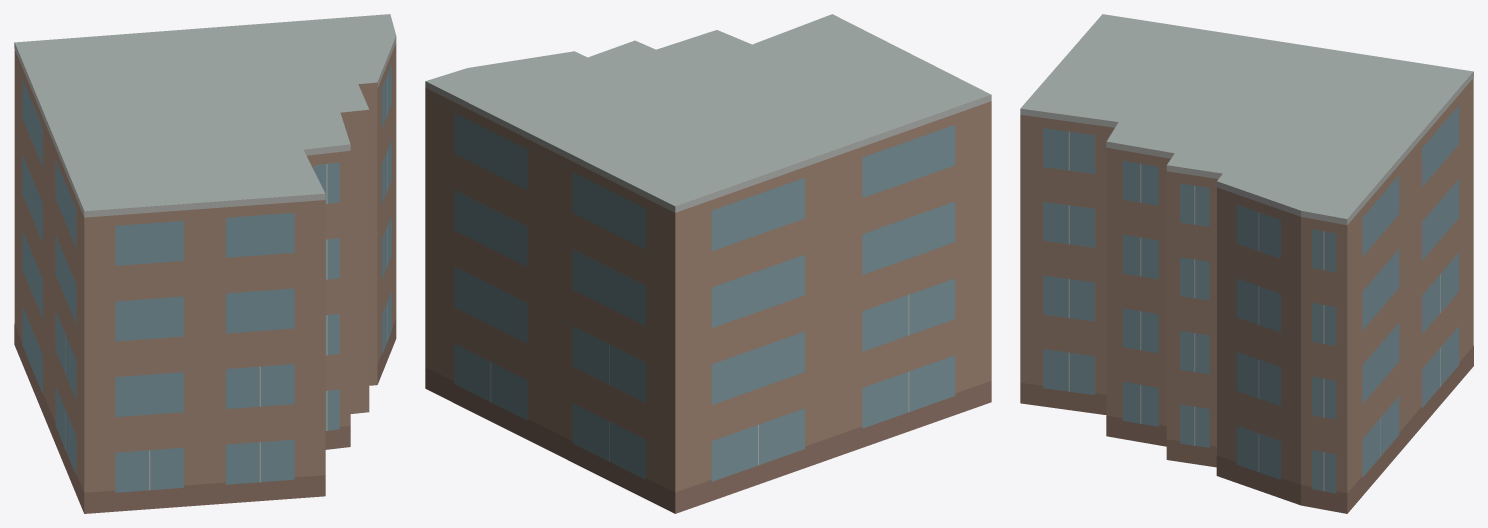
The model's file is survey-upis-33003550.glb.
3 renders of one model, left to right at view 1: azimuth 30°, elevation 25°; view 2: azimuth 150°, elevation 25°; view 3: azimuth 270°, elevation 25°, orthographic. The views are drawn at different scales.
Visible parts, largest first — view 1: survey-upis-33003550.tmp; view 2: survey-upis-33003550.tmp; view 3: survey-upis-33003550.tmp.
Part boxes in pixels (x1,y1,x2,y2): survey-upis-33003550.tmp: (14,14,396,513); survey-upis-33003550.tmp: (425,14,991,513); survey-upis-33003550.tmp: (1020,14,1473,513).
Bounding box in the file's own units: 17.48 × 11.7 × 16.33.
